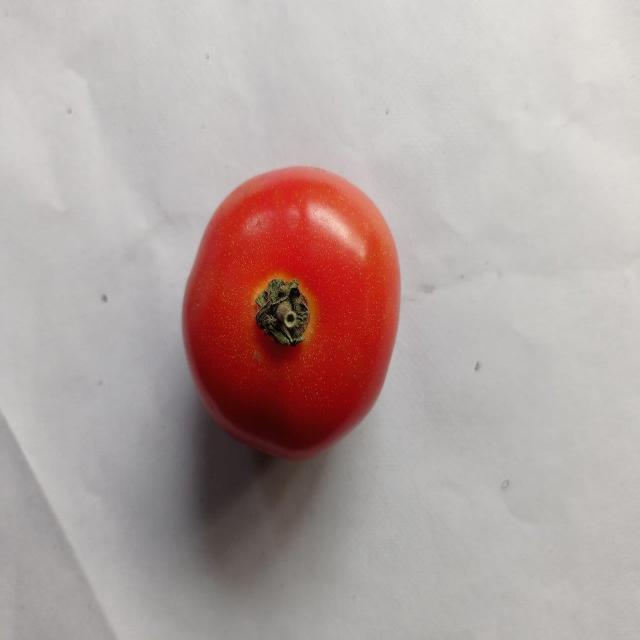Tomato: (178, 159, 402, 460)
